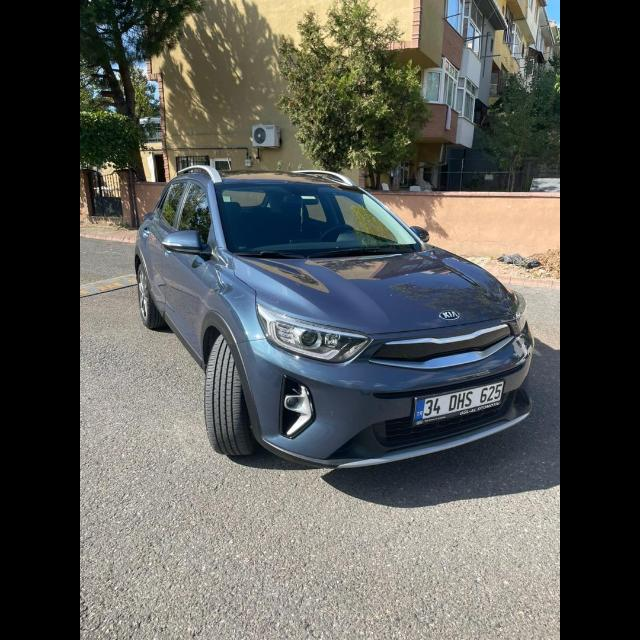Plaka: (414, 381, 502, 419)
